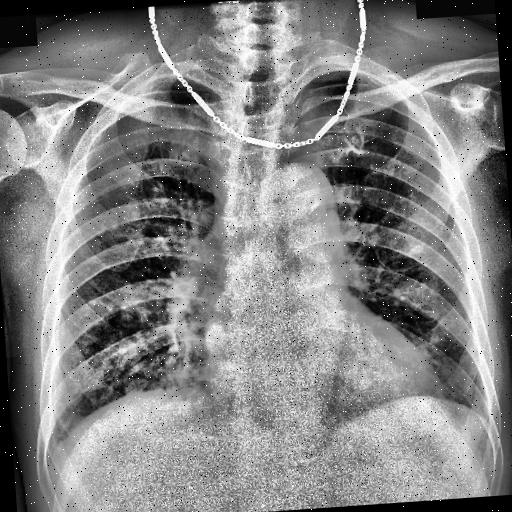0- Aortic enlargement: (260, 160, 347, 260), (262, 160, 340, 256), (273, 160, 342, 238)
3- Cardiomegaly: (202, 305, 446, 439), (206, 320, 450, 424)
5- ILD: (56, 155, 198, 408), (86, 178, 184, 398)
7- Lung Opacity: (34, 196, 226, 434)
